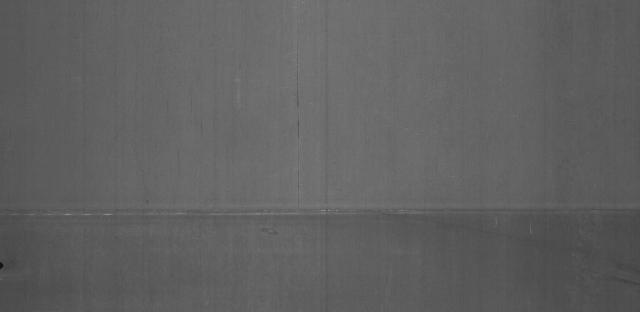welding_line: (3, 200, 640, 224)
